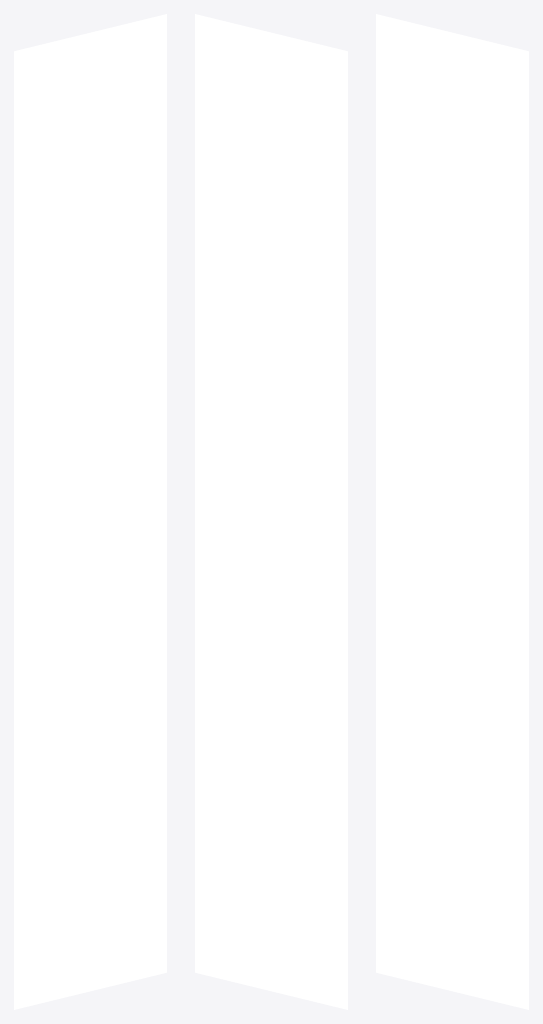
File: 文化遗产.gltf
3 views of the same model, side by side, from view 1: azimuth 30°, elevation 25°; view 2: azimuth 150°, elevation 25°; view 3: azimuth 330°, elevation 25° (orthographic).
Parts seen in each view (by area): view 1: 中; view 2: 中; view 3: 中.
Part boxes in pixels (x1=…): 中: x1=14, y1=14, x2=166, y2=1009; 中: x1=195, y1=14, x2=347, y2=1009; 中: x1=376, y1=14, x2=528, y2=1009.
Size of what is drawn, in the model's own units: 20 by 120 by 0.
Materials: 1 (1 with a texture image).
